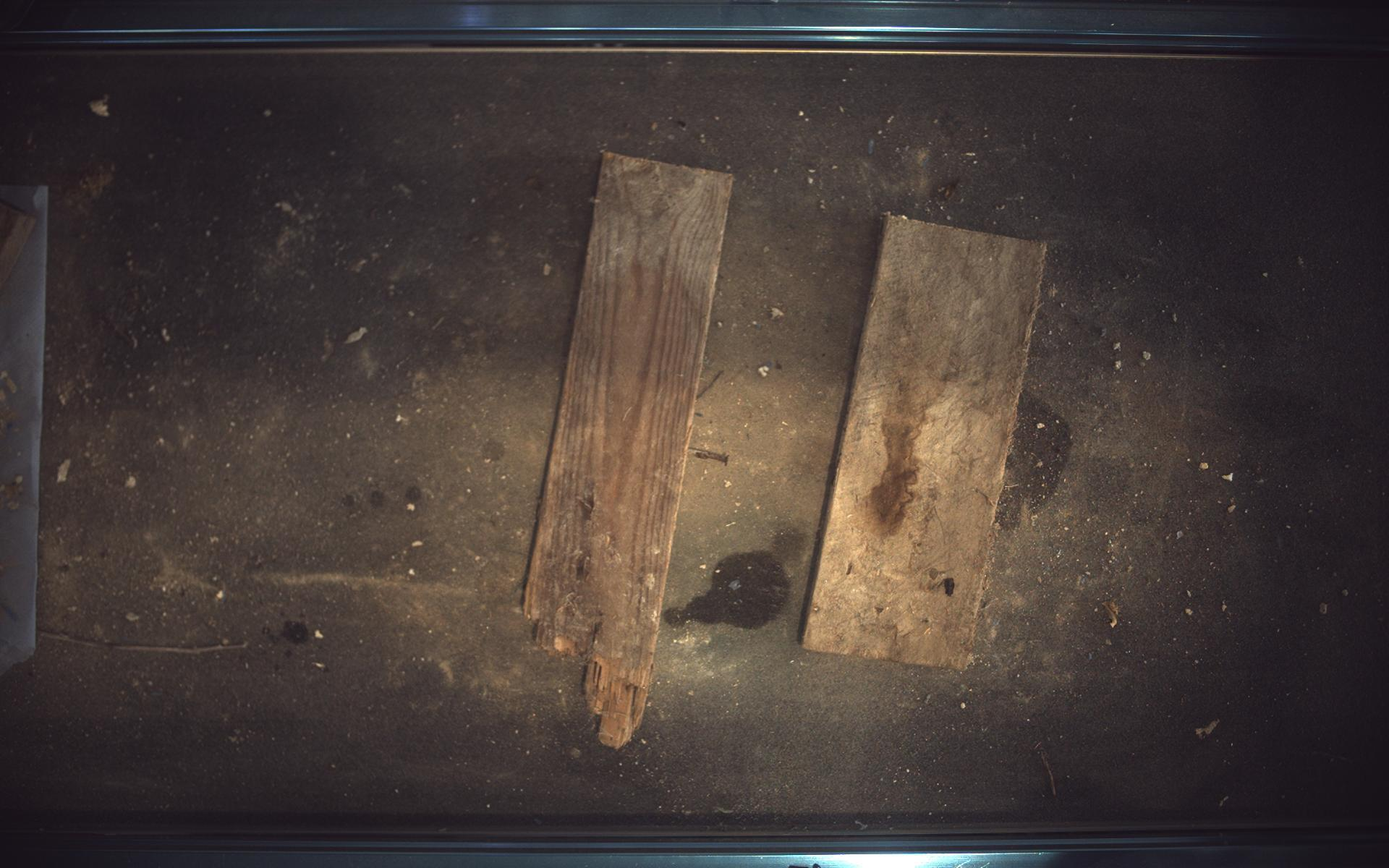wood: (524, 151, 733, 749), (804, 214, 1048, 670)
